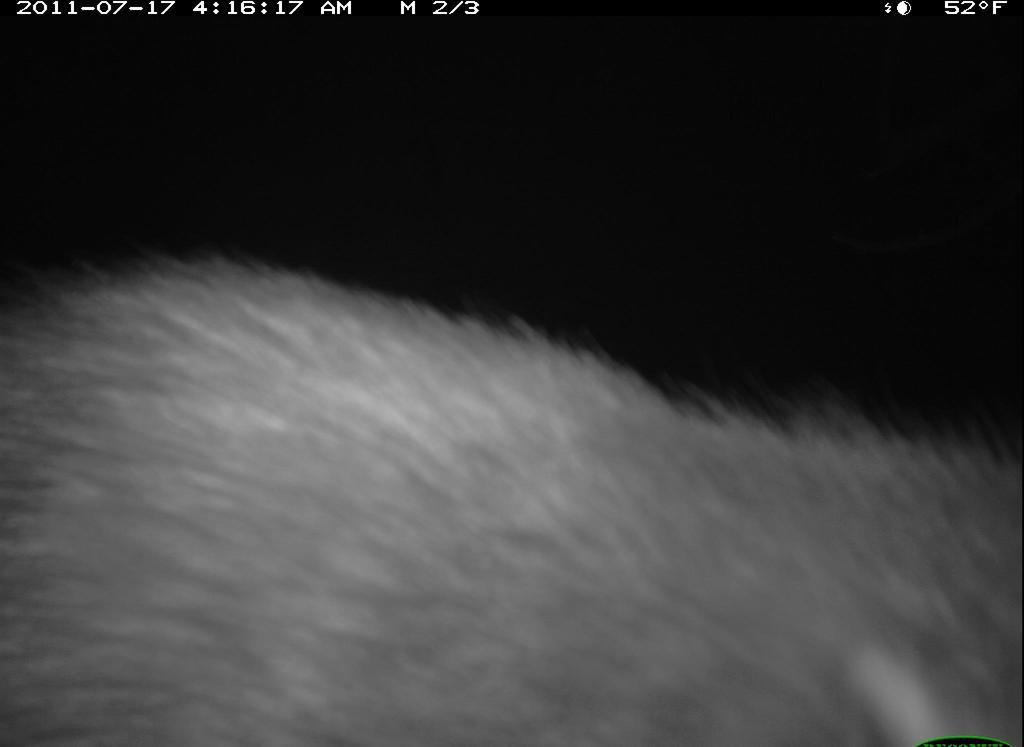raccoon: (1, 242, 1023, 747)
